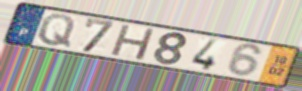4: (190, 37, 221, 73)
6: (225, 43, 266, 80)
7: (81, 17, 117, 54)
8: (151, 31, 189, 66)
H: (108, 23, 158, 62)
Q: (36, 13, 77, 50)
